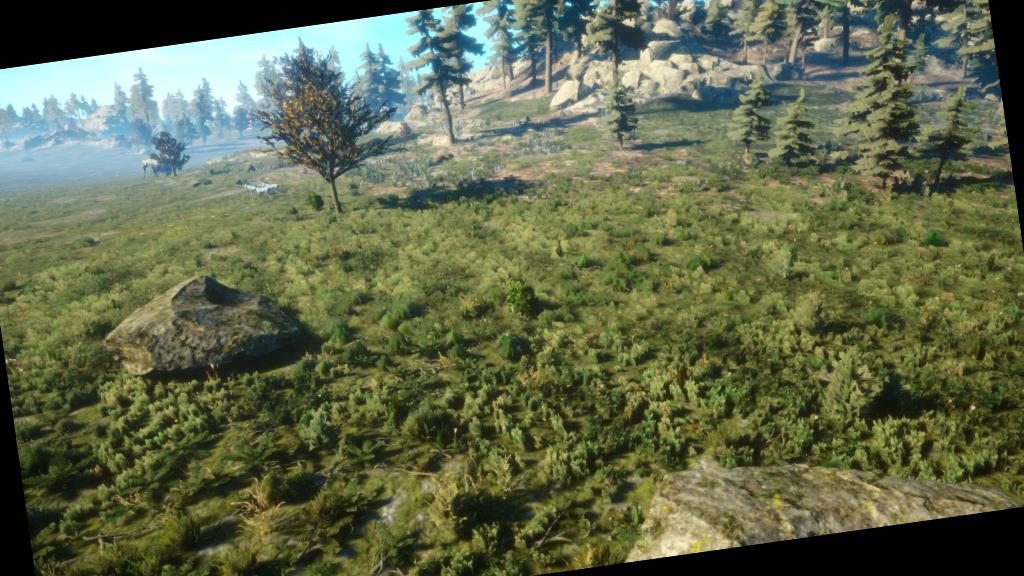elephant: (134, 151, 182, 185)
zebra: (258, 176, 284, 197), (238, 181, 264, 199), (250, 180, 272, 200)
